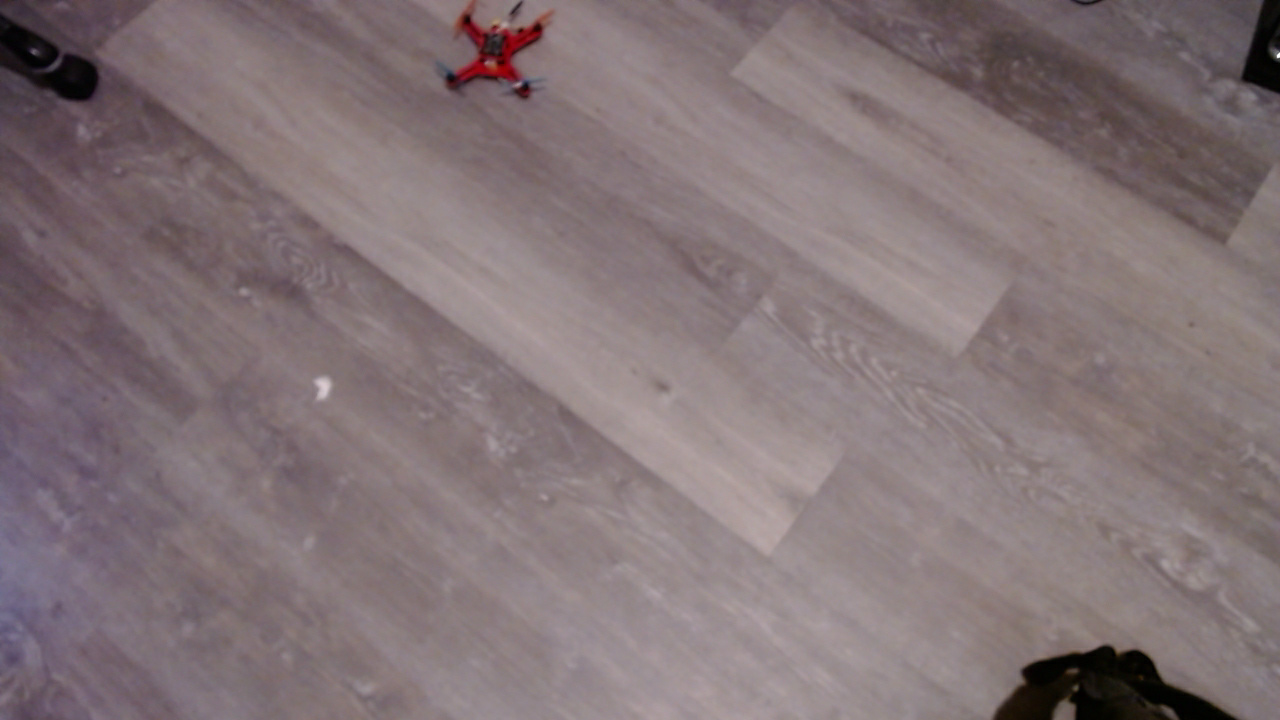crazyflie: (430, 2, 566, 113)
